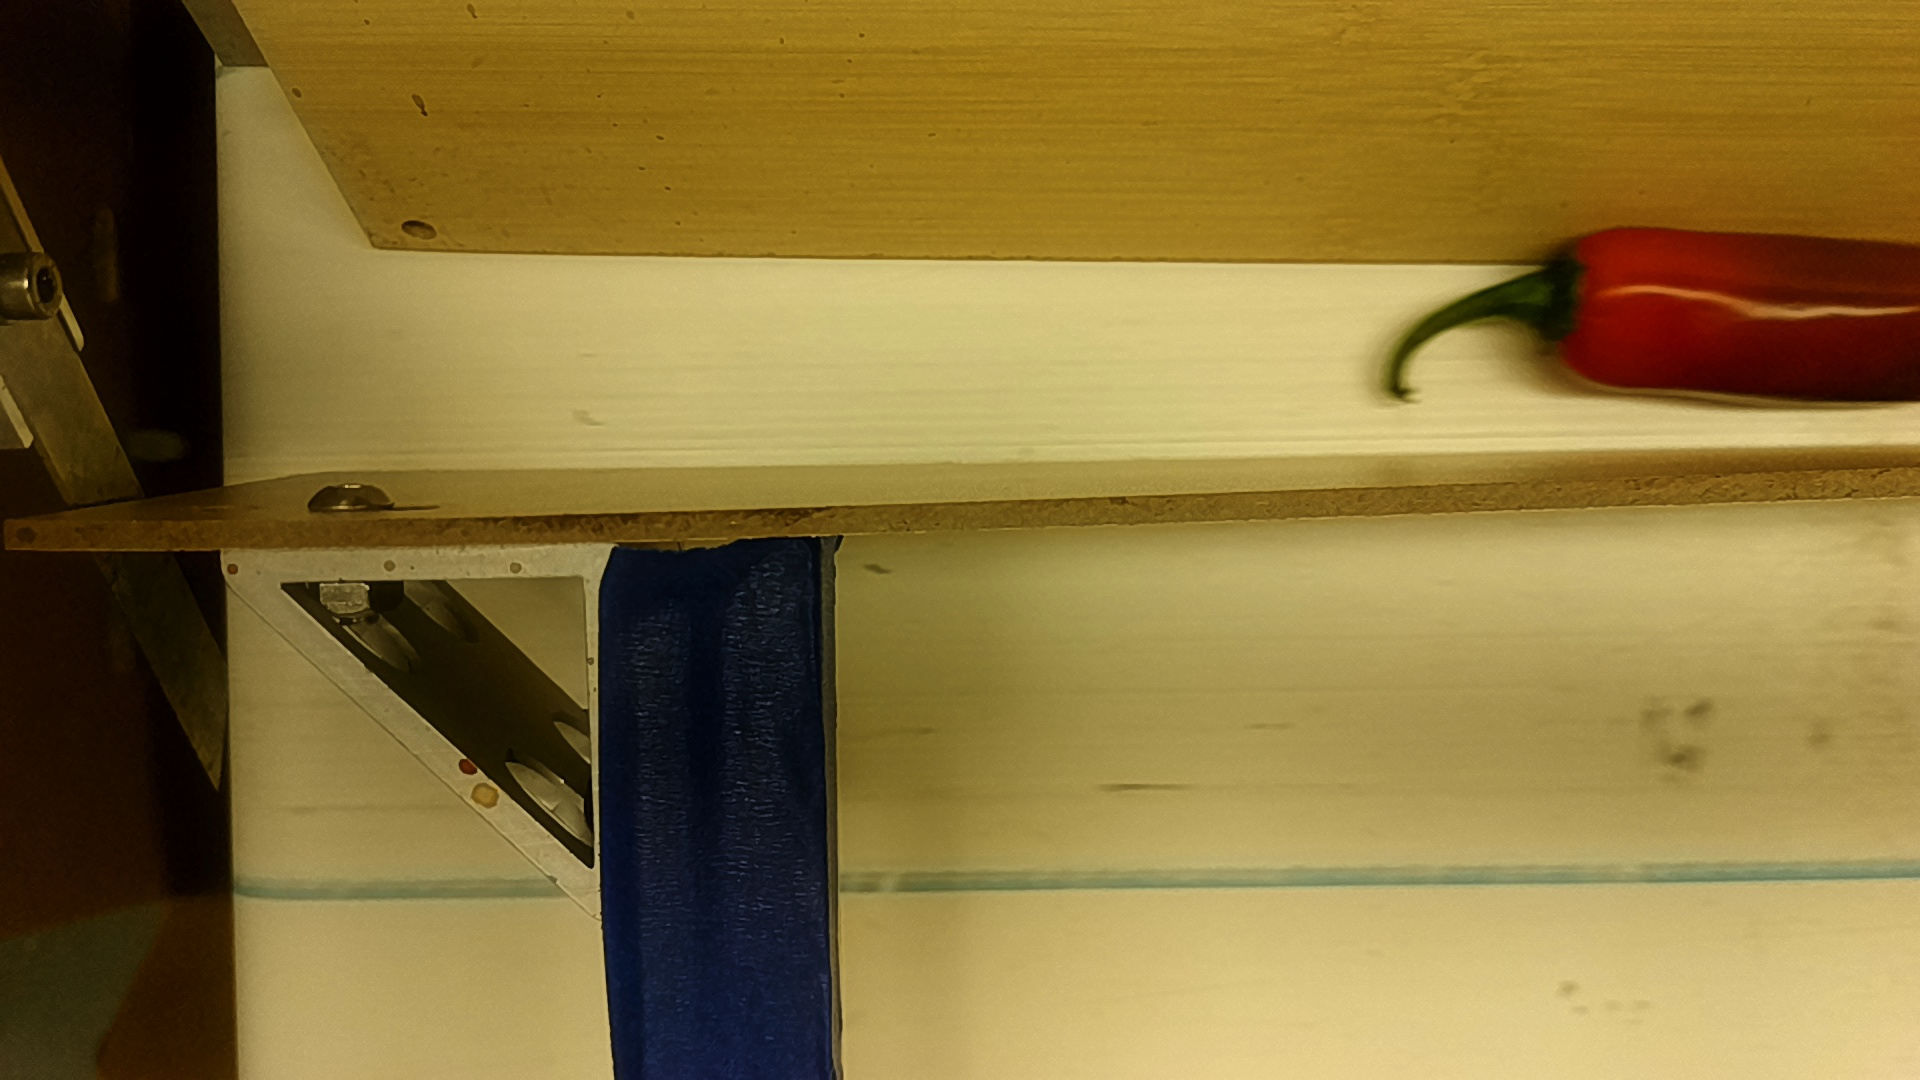Cut Point: (1523, 218, 1615, 393)
